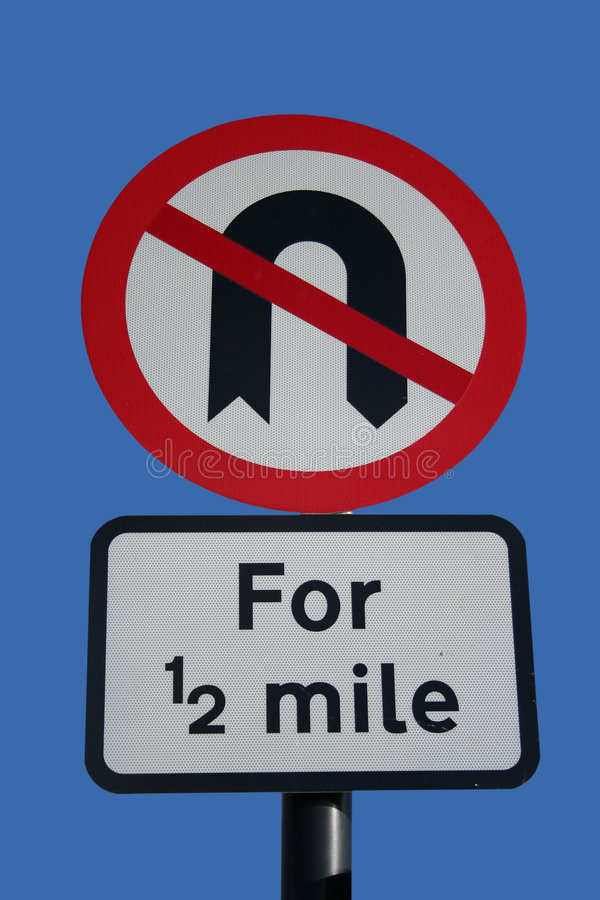No_u_turn: (80, 113, 528, 513)
